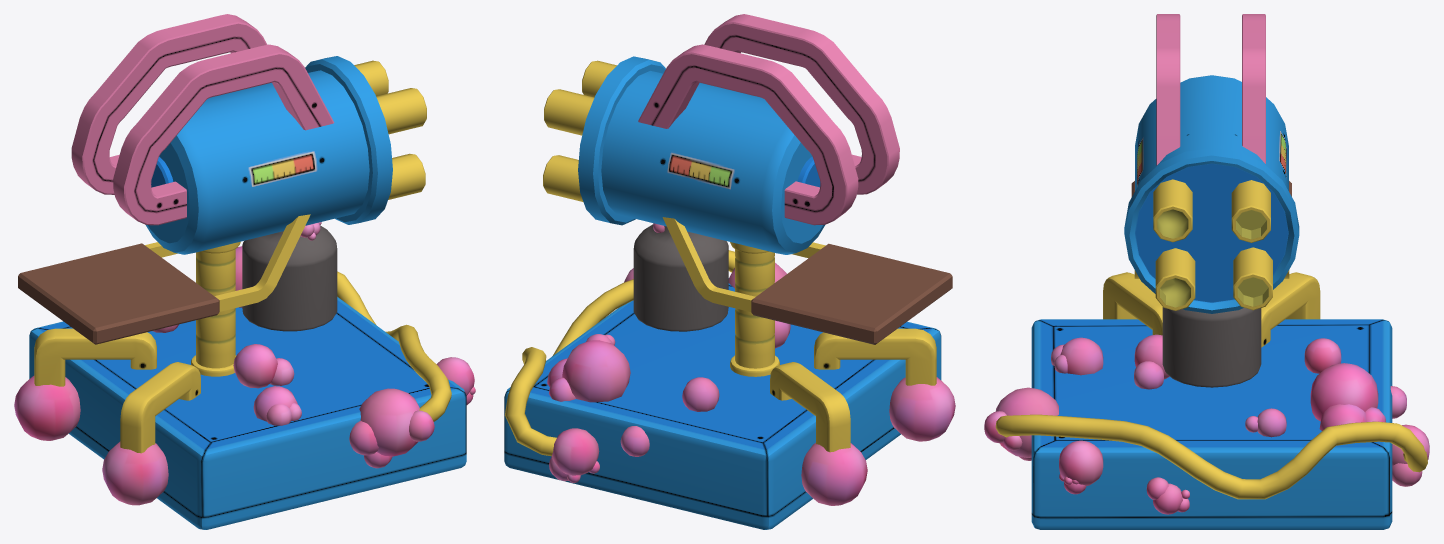
Rendered from BubblegunUG1.fbx.
3 views of the same model, side by side, from view 1: azimuth 30°, elevation 25°; view 2: azimuth 150°, elevation 25°; view 3: azimuth 270°, elevation 25° (orthographic). The views are drawn at different scales.
Parts seen in each view (by area): view 1: Top_Bubblegun, Bottom_Bubblegun; view 2: Top_Bubblegun, Bottom_Bubblegun; view 3: Bottom_Bubblegun, Top_Bubblegun.
Boxes of the visible parts, box(x1,y1,x2,y2) form: Top_Bubblegun: box(18, 14, 426, 344); Bottom_Bubblegun: box(14, 241, 475, 529); Top_Bubblegun: box(543, 14, 952, 344); Bottom_Bubblegun: box(504, 242, 955, 529); Bottom_Bubblegun: box(984, 272, 1429, 529); Top_Bubblegun: box(1124, 14, 1299, 387).
Size of the model in its own units: 75.4 by 82.53 by 80.
1 material, 1 textured.
